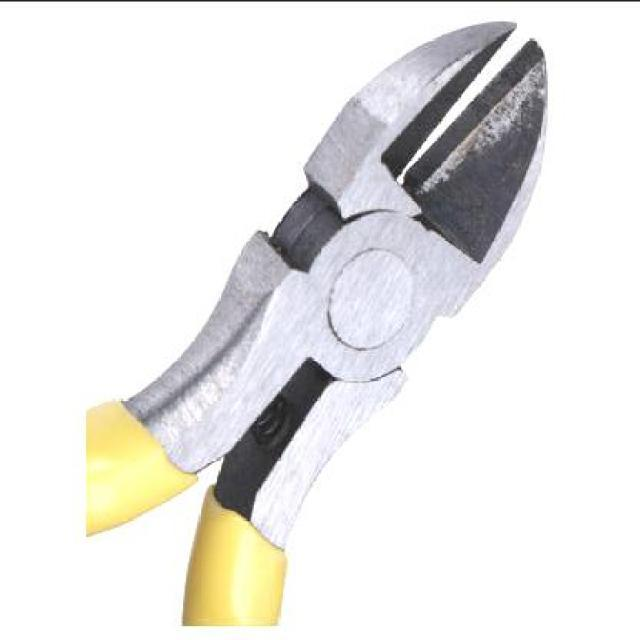pliers: (81, 13, 562, 624)
